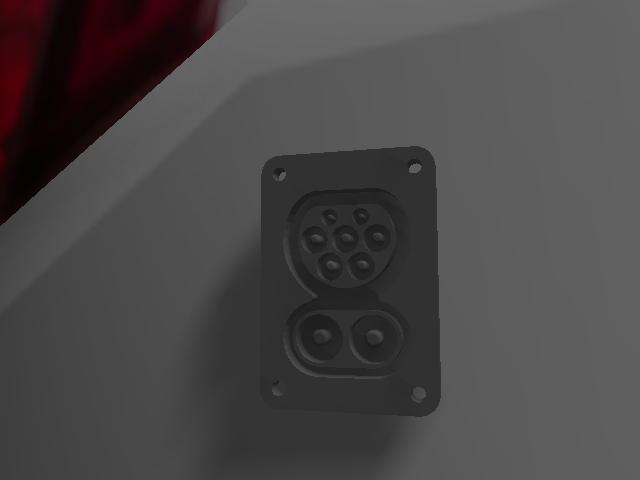EV-socket: (255, 141, 449, 421)
